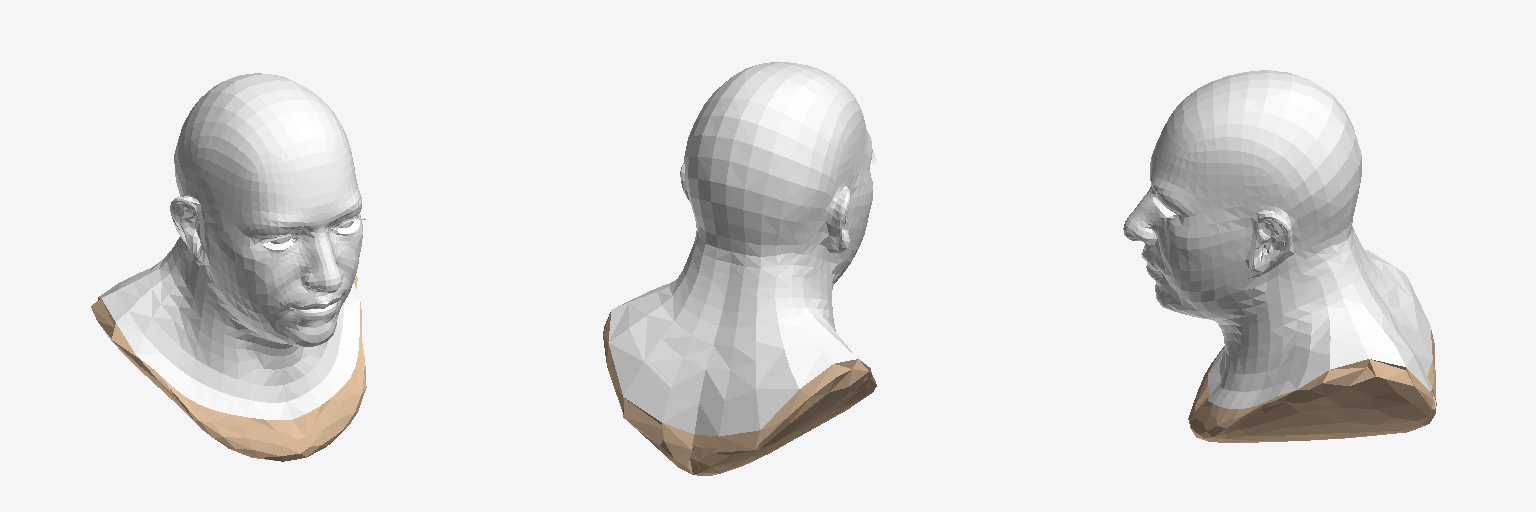
The model's file is Head_Idle.obj.
3 views of the same model, side by side, from view 1: azimuth 30°, elevation 25°; view 2: azimuth 150°, elevation 25°; view 3: azimuth 270°, elevation 25° (orthographic).
Parts seen in each view (by area): view 1: BodyParts; view 2: BodyParts; view 3: BodyParts.
Part boxes in pixels (bbox=[...]): BodyParts: bbox=[91, 73, 366, 461]; BodyParts: bbox=[603, 62, 876, 475]; BodyParts: bbox=[1123, 70, 1436, 442].
Bounding box in the file's own units: 27.78 × 38.23 × 30.66.